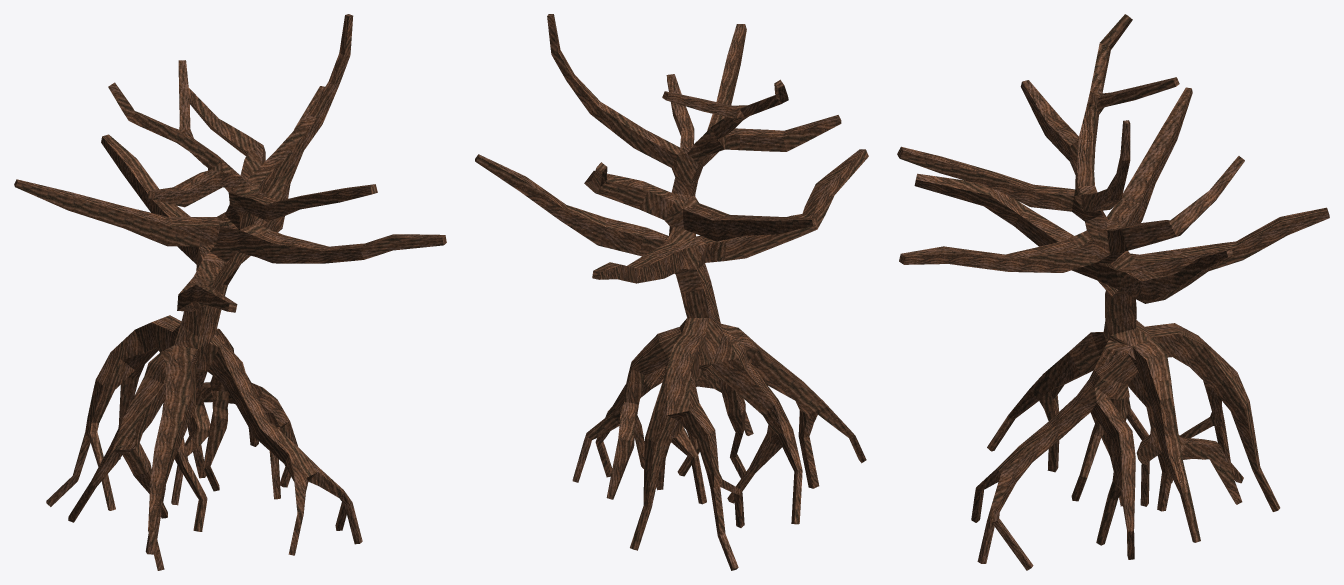
The model's file is mangrove.glb.
The picture shows the model from 3 angles, left to right: view 1: azimuth 30°, elevation 25°; view 2: azimuth 150°, elevation 25°; view 3: azimuth 270°, elevation 25°; orthographic projection. The views are drawn at different scales.
Parts seen in each view (by area): view 1: mangrove; view 2: mangrove; view 3: mangrove.
Boxes of the visible parts, box(x1,y1,x2,y2) form: mangrove: box(14, 14, 446, 570); mangrove: box(475, 14, 868, 570); mangrove: box(897, 14, 1329, 570).
Size of the model in its own units: 7.02 by 9.51 by 7.73.
Materials: 1 (1 with a texture image).
